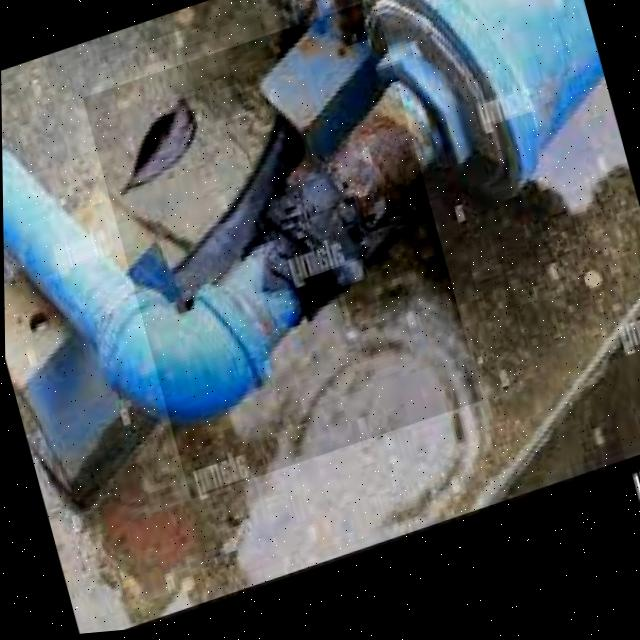corrosion: (214, 112, 423, 359)
